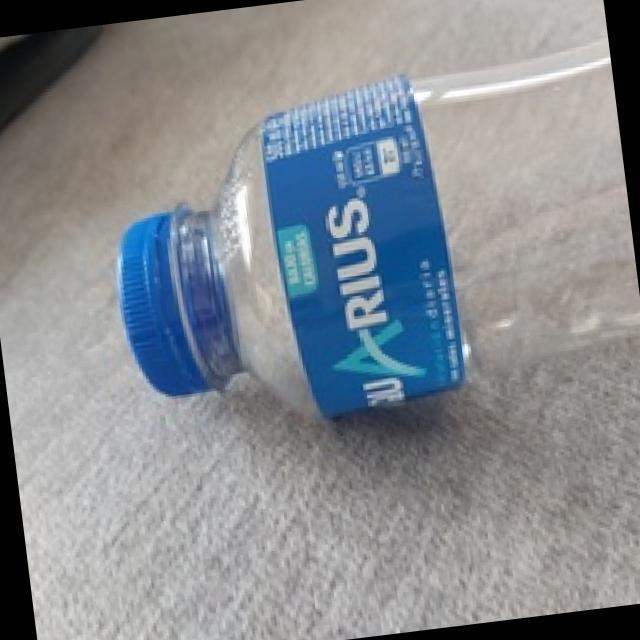good: (97, 73, 640, 438)
